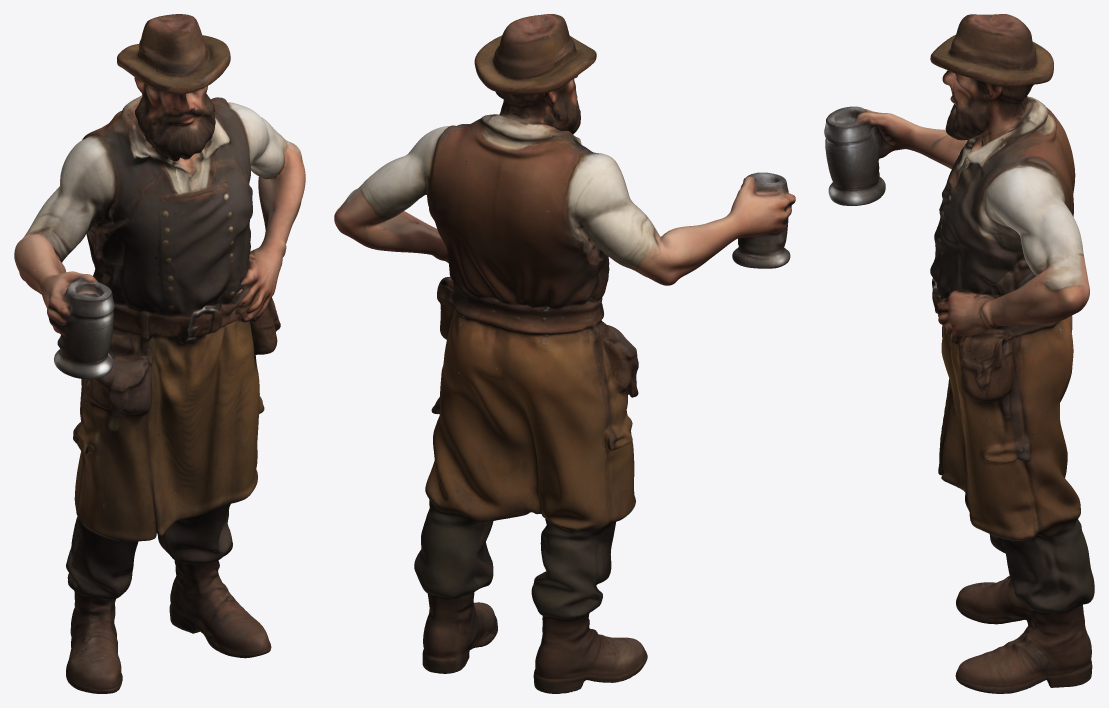
File: Human_Tavern_Keeper_t_1023045747_texture.fbx
The picture shows the model from 3 angles, left to right: view 1: azimuth 30°, elevation 25°; view 2: azimuth 150°, elevation 25°; view 3: azimuth 270°, elevation 25°; orthographic projection. The views are drawn at different scales.
Visible parts, largest first — view 1: Mesh1.0; view 2: Mesh1.0; view 3: Mesh1.0.
Part boxes in pixels (x1,y1,x2,y2): Mesh1.0: (14,14,305,693); Mesh1.0: (334,14,795,693); Mesh1.0: (824,14,1094,693).
Size of the model in its own units: 116 by 201 by 77.72.
1 material, 1 textured.
